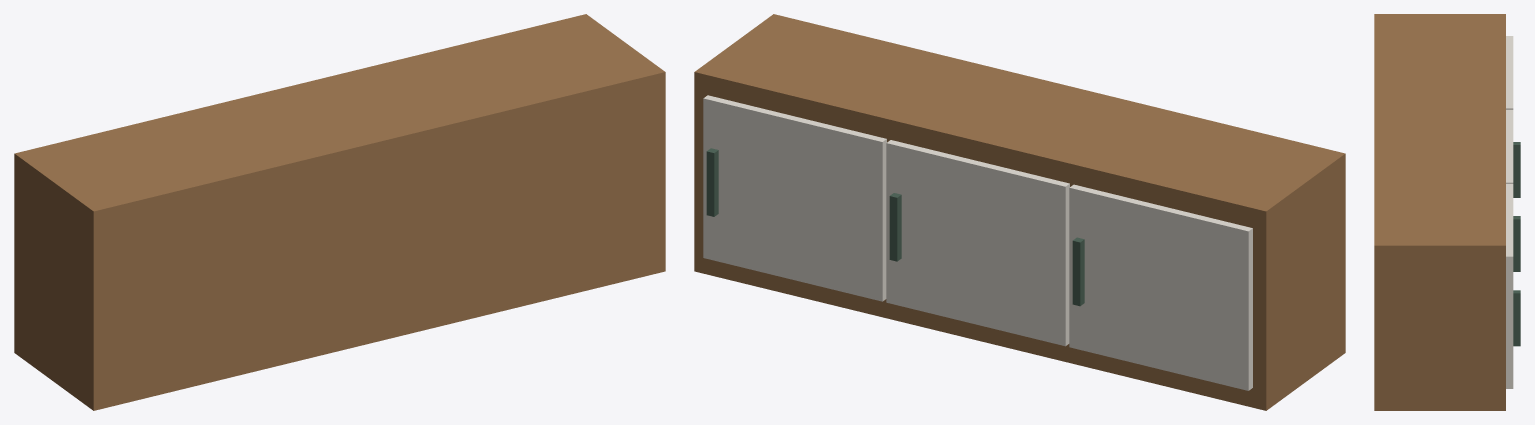
3 renders of one model, left to right at view 1: azimuth 30°, elevation 25°; view 2: azimuth 150°, elevation 25°; view 3: azimuth 270°, elevation 25°, orthographic. The views are drawn at different scales.
Parts seen in each view (by area): view 1: body; view 2: body, door-1, door-2, door-0, handle-0, handle-1, handle-2; view 3: body, door-2, door-0, door-1, handle-2, handle-0, handle-1.
Part boxes in pixels (x1,y1,x2,y2): body: (14,14,665,410); body: (694,14,1345,410); door-1: (886,140,1069,346); door-2: (703,95,886,301); door-0: (1069,184,1252,390); handle-0: (1072,237,1084,306); handle-1: (889,193,901,261); handle-2: (706,148,718,216); body: (1374,14,1505,410); door-2: (1506,184,1513,388); door-0: (1506,36,1513,109); door-1: (1506,110,1513,183); handle-2: (1513,290,1520,346); handle-0: (1513,142,1520,197); handle-1: (1513,216,1520,271).
Bounding box in the file's own units: 1.5 × 0.5 × 0.4.
